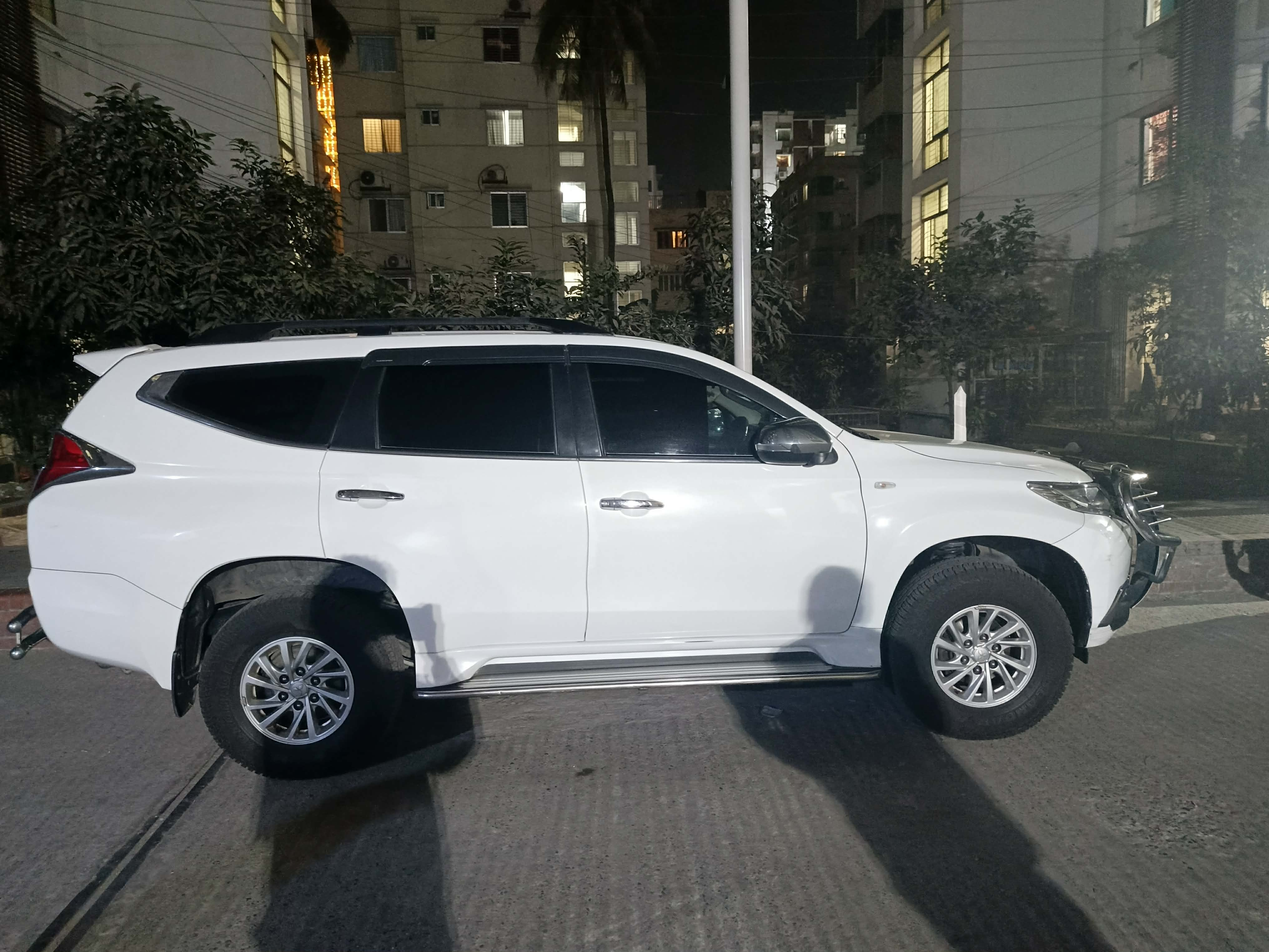private car: (0, 295, 1181, 790)
